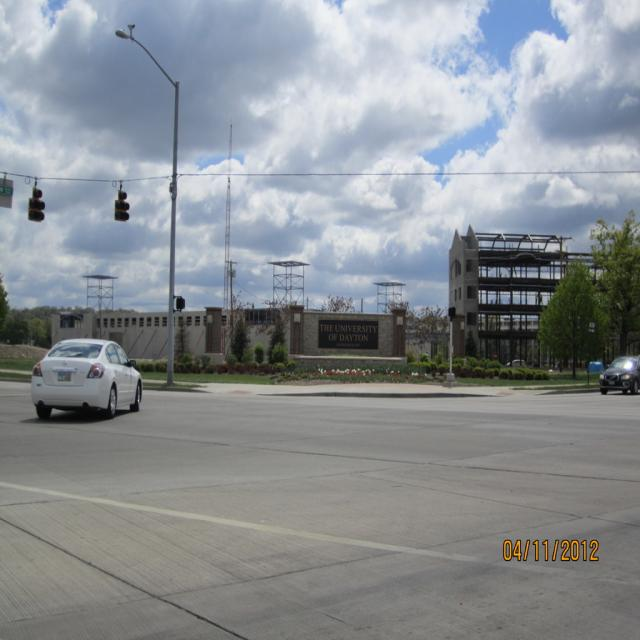car: (25, 331, 134, 419)
